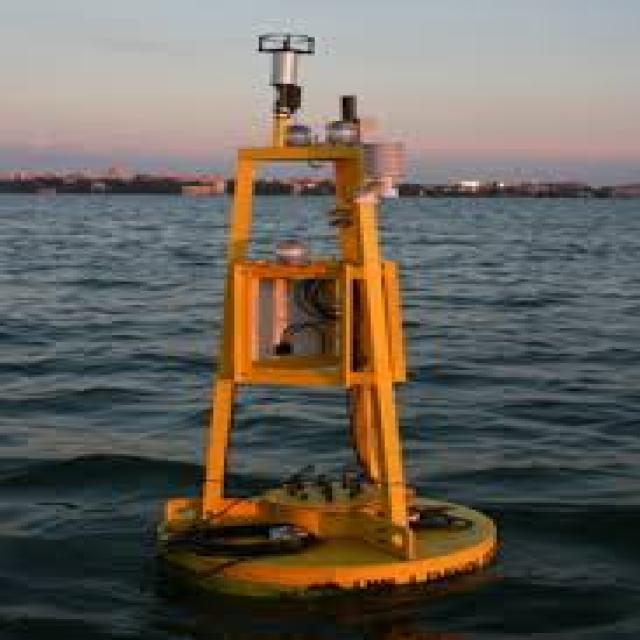buoy: (146, 13, 503, 608)
